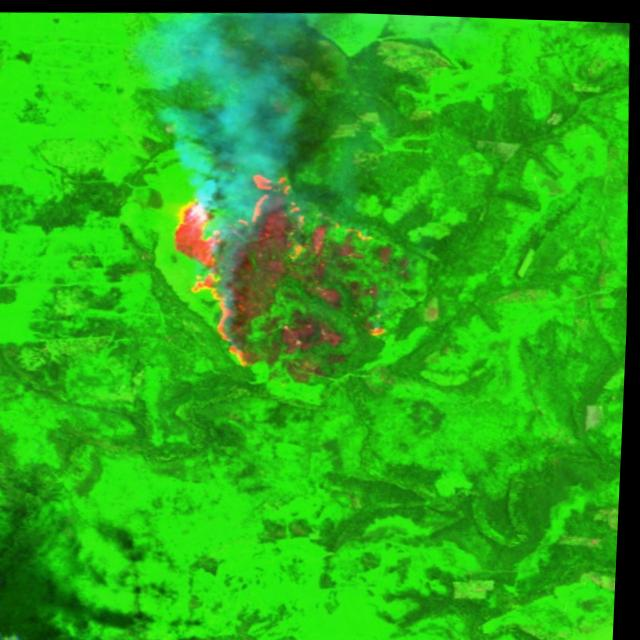fire: (164, 162, 397, 374)
